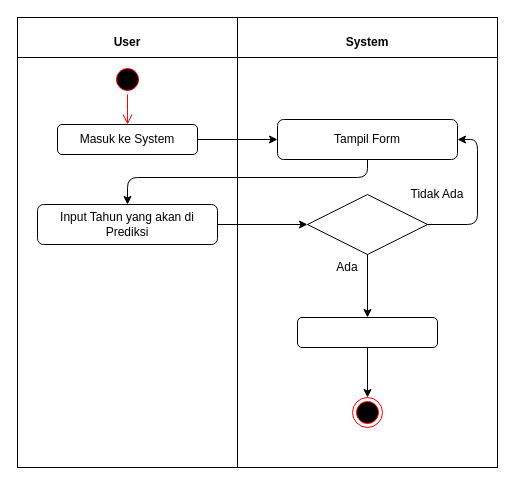
Some shapes in this 515 by 485 pixel diagram are drawn without their labels. The box of each missing label's shape, as (x1, y1, x2, y2) in pixels:
Prediksi ?: (306, 194, 428, 254)
Tampil Prediksi: (296, 316, 438, 348)
